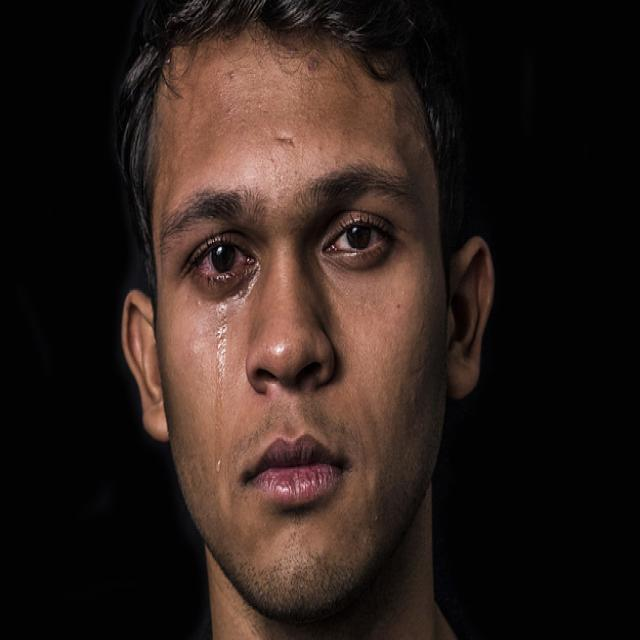mobile_phonerotation: (111, 2, 498, 632)
